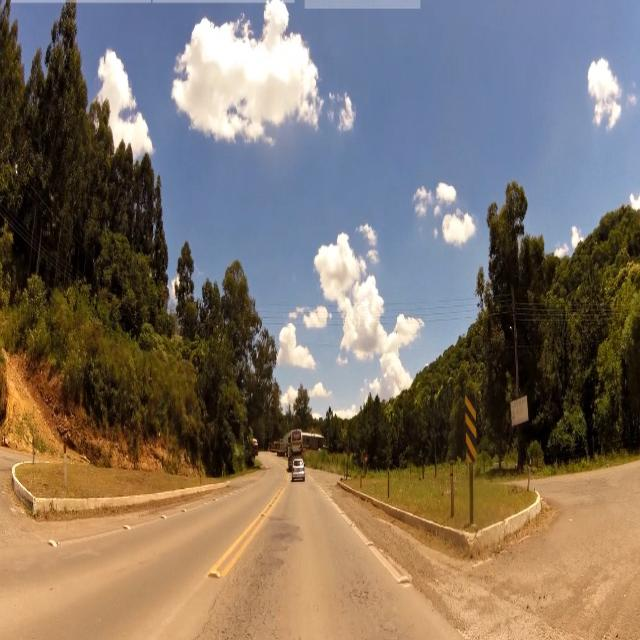MP: (466, 393, 477, 465)
